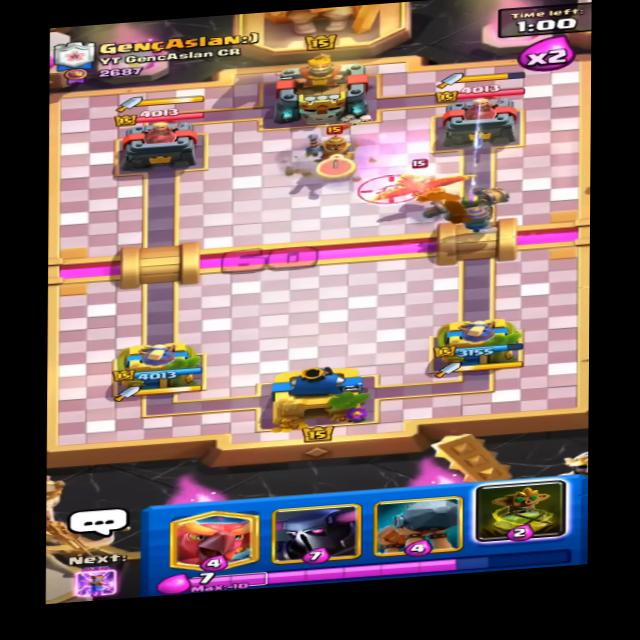phoenix: (363, 156, 486, 214)
prince: (296, 120, 368, 180)
